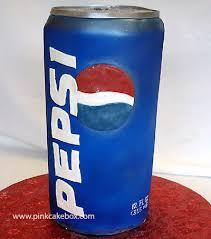Aluminum can: (40, 5, 164, 237)
